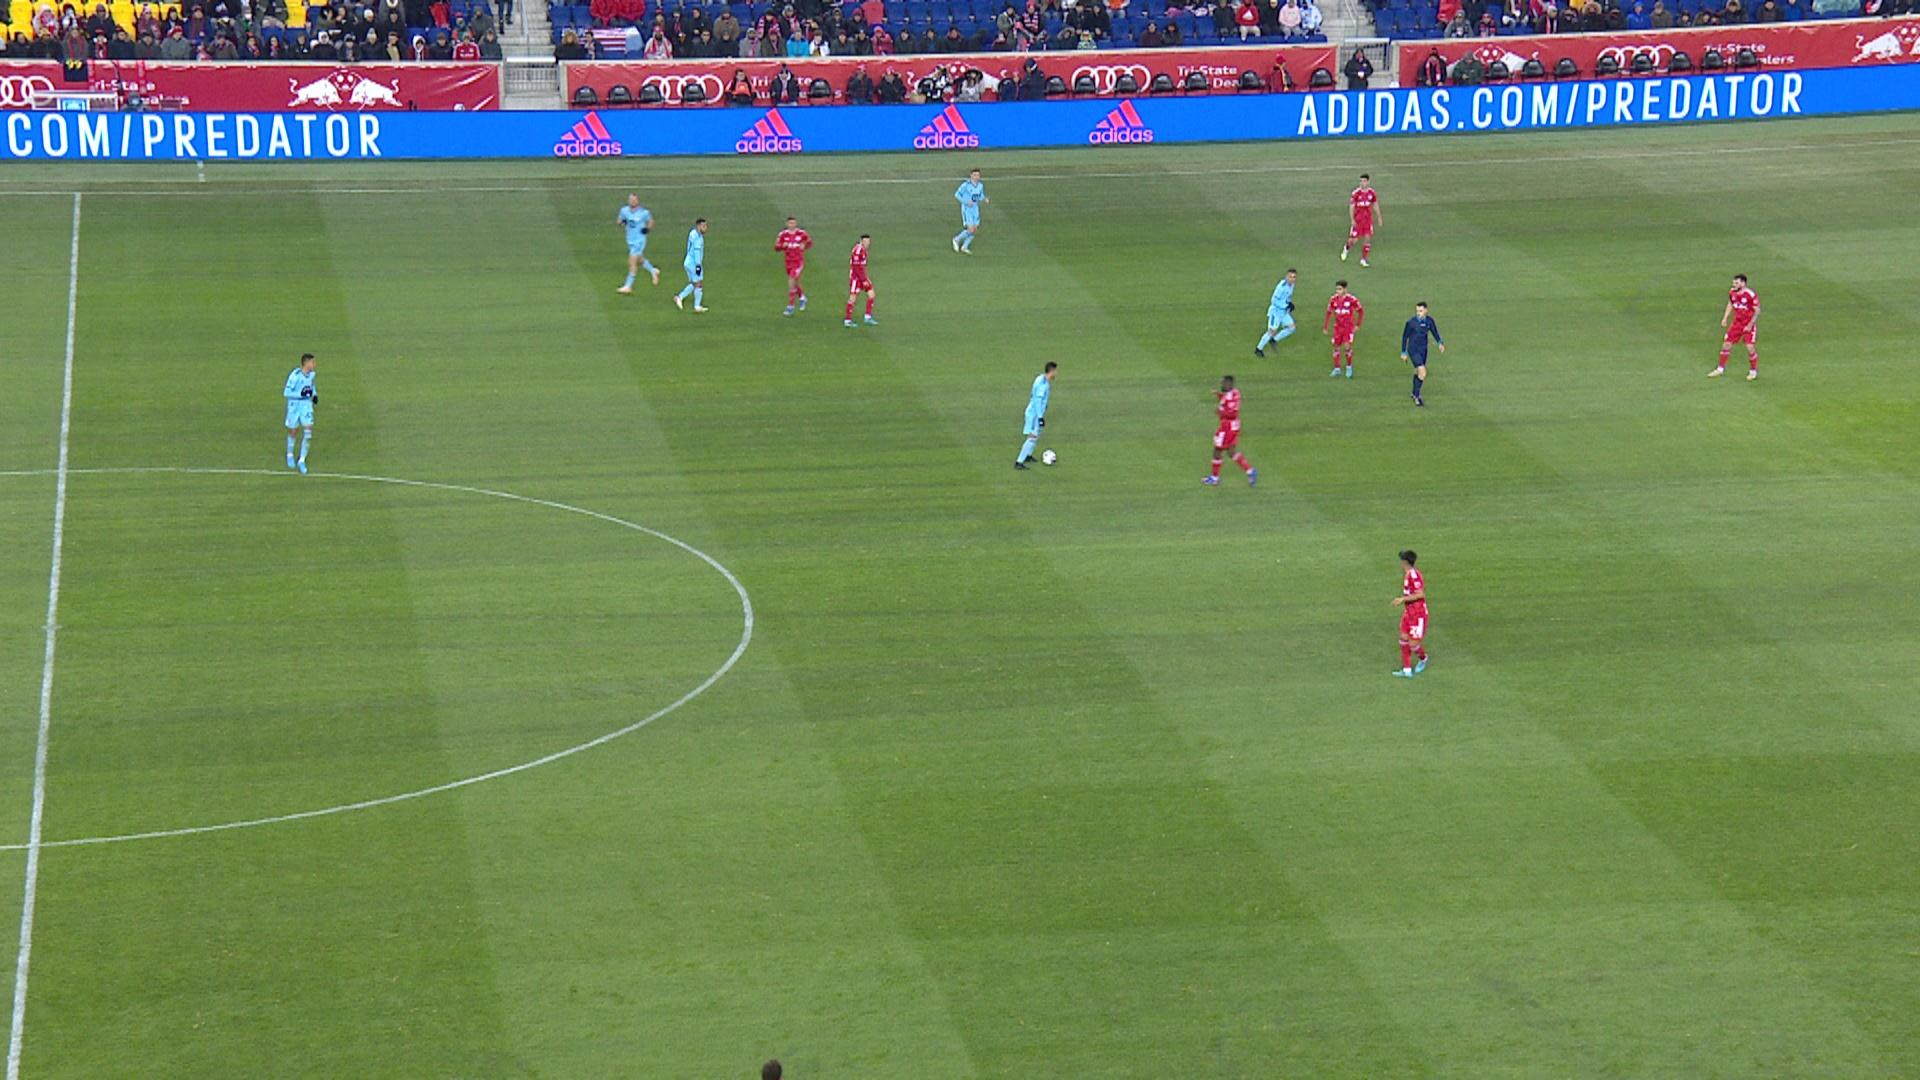football: (1040, 448, 1058, 465)
